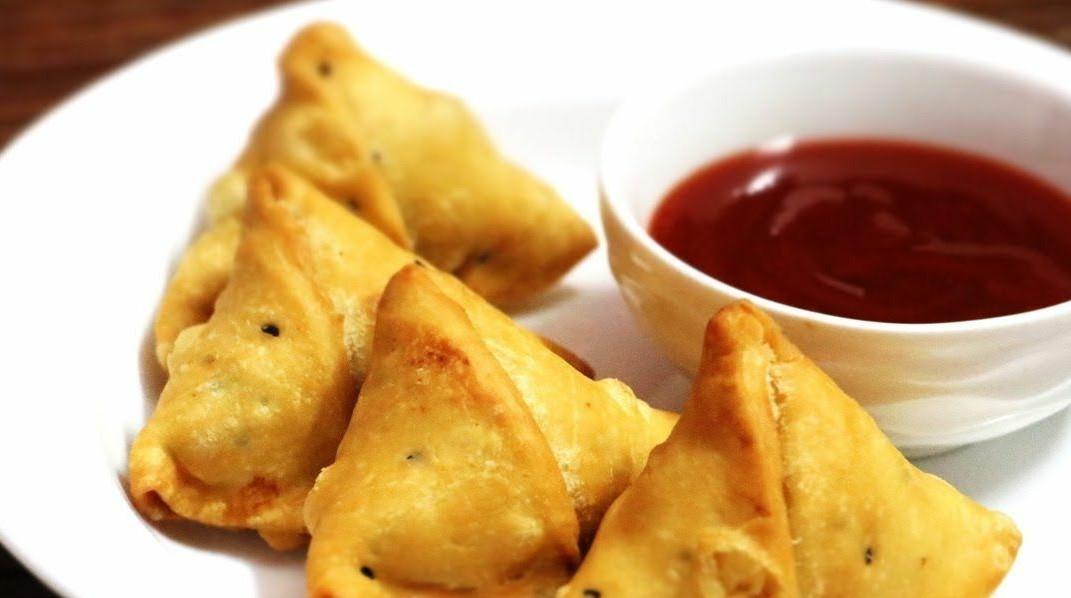Samosa: (552, 301, 1021, 598), (303, 265, 683, 598), (173, 19, 593, 308), (125, 158, 423, 550)
